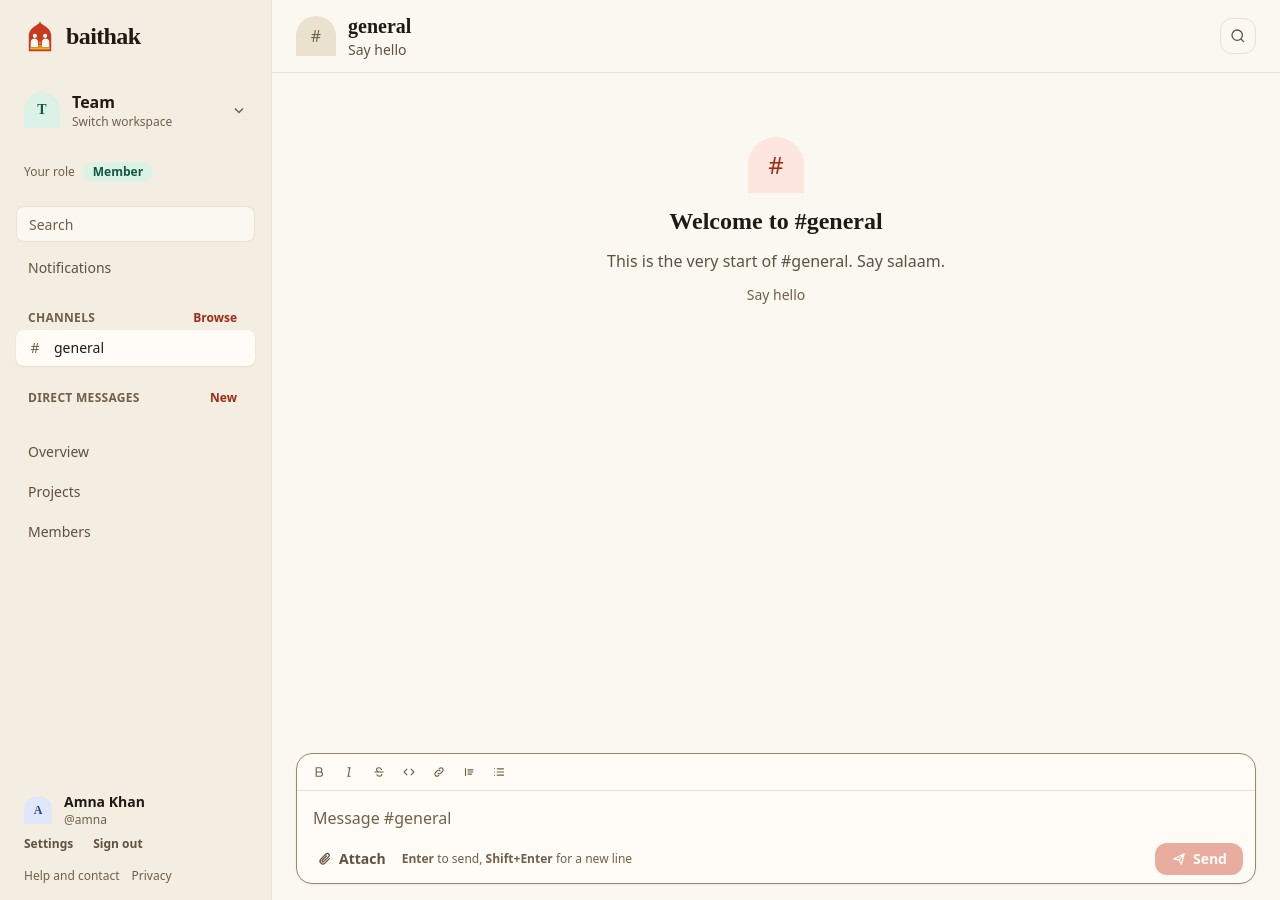
a channel › a failed send can be retried with the same id, so it is stored once
Check: the text "This is the very start of #general. Say salaam." is shown, box left=607, top=249, right=945, bottom=273
Type "Hello" into the dropdown labelled "Message #general" at (776, 819), box left=305, top=799, right=1247, bottom=839
Then press Enter
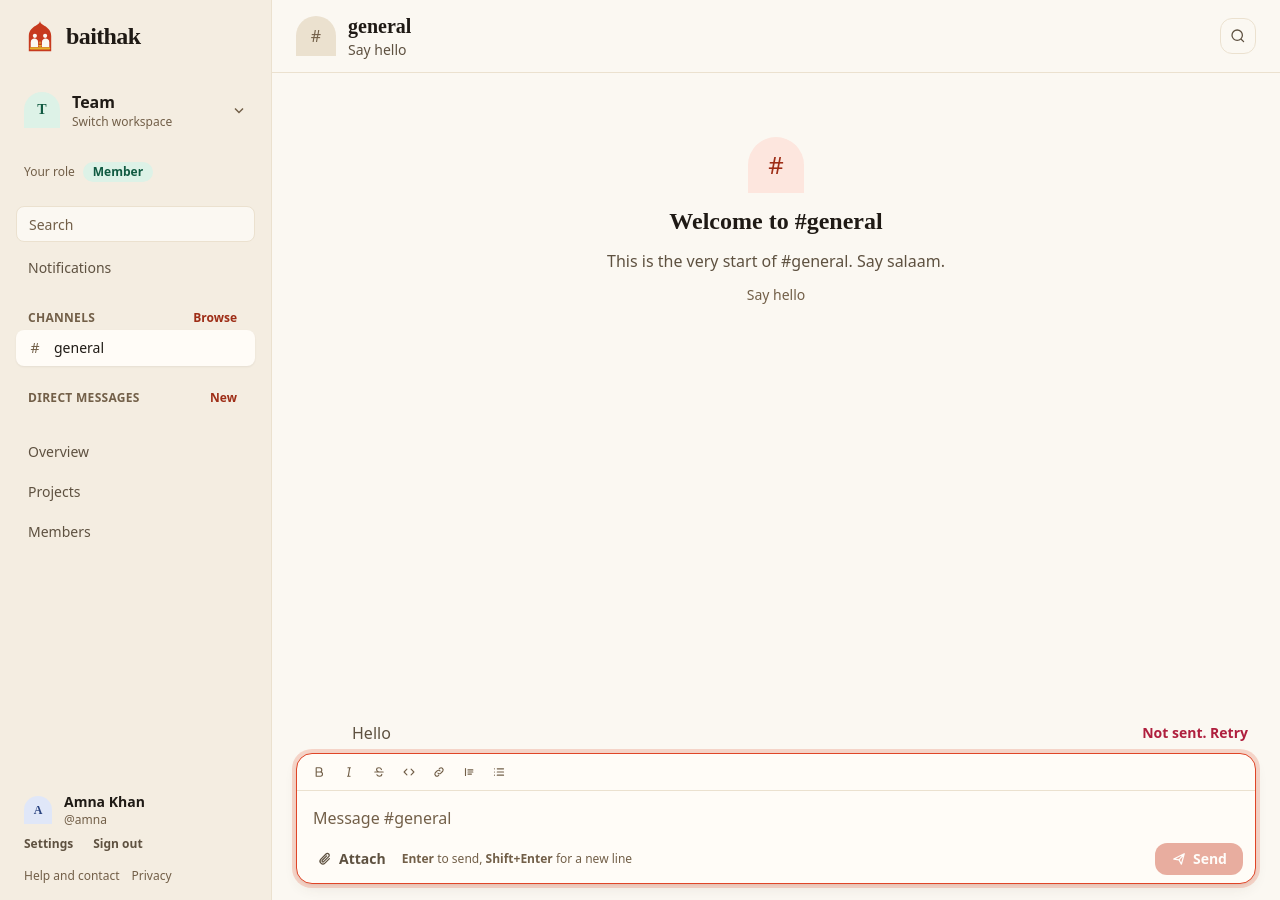
Click the button "Not sent. Retry" at (1195, 733), box left=1142, top=723, right=1248, bottom=743
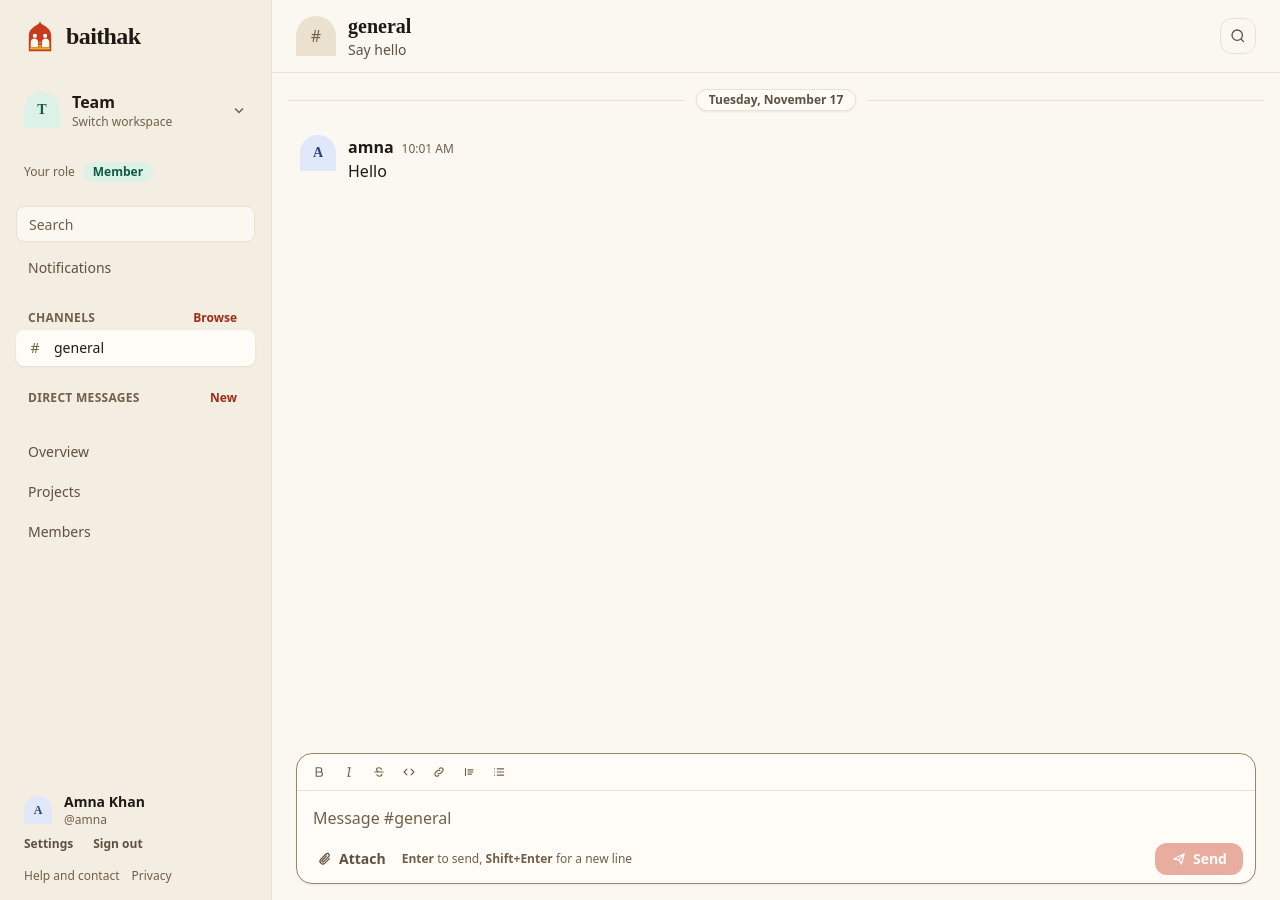
Check: the button "Not sent. Retry" is gone
